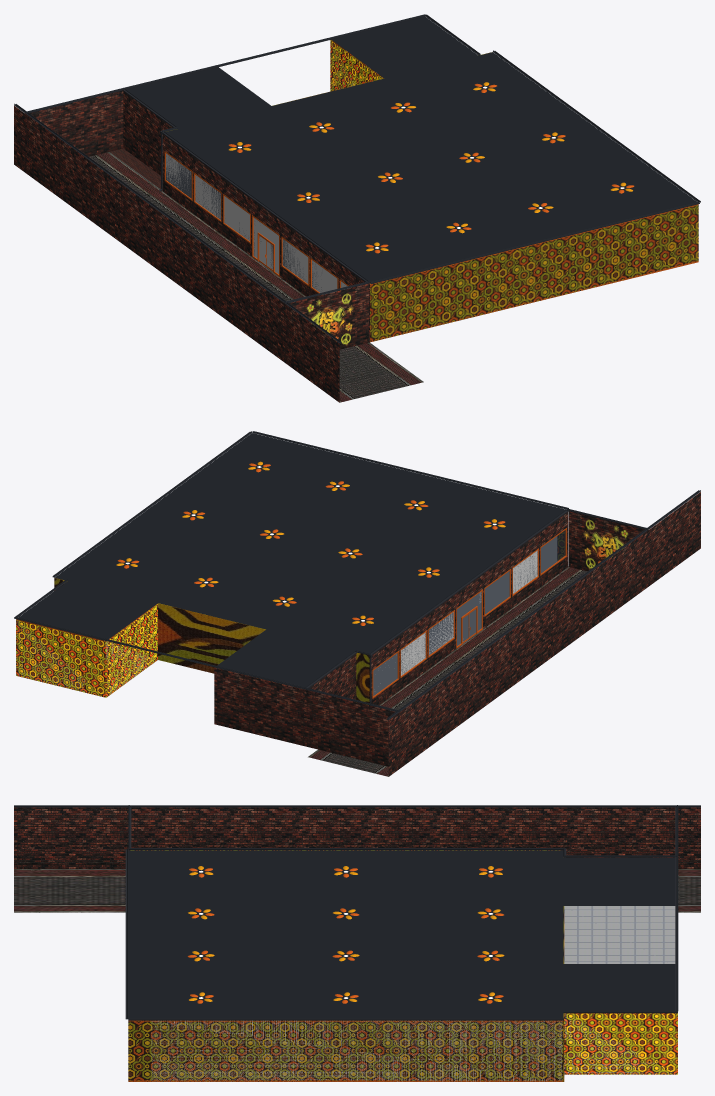
Rendered from store.glb.
3 renders of one model, top to bottom at view 1: azimuth 30°, elevation 25°; view 2: azimuth 150°, elevation 25°; view 3: azimuth 270°, elevation 25°, orthographic. The views are drawn at different scales.
Visible parts, largest first — view 1: mainRoofDeck, cityPlane, frontWall, outdoorFloor, brRoofDeck, wcRoofDeck, TRIGGER__crate_digger_shop, westRearGapWall, leftWallHeader, wcLeftBrickWall, muralWall, brLeftWall (+7 smaller); view 2: mainRoofDeck, cityPlane, wcRearBrickWall, brRearWall, westRearGapWall, outdoorFloor, Partition_solid_1, brRoofDeck, TRIGGER__crate_digger_shop, wcRoofDeck, leftWallHeader, brLeftWall (+14 smaller); view 3: mainRoofDeck, cityPlane, rightWall, TRIGGER__crate_digger_shop, brRightWall, wcRightWall, outdoorFloor, wcRoofDeck, brRoofDeck, capMesh.004, gutterOuter.004, TRIGGER__crate_digger_breakroom (+6 smaller).
Boxes of the visible parts, x1,y1,x2,y2 form: mainRoofDeck: (165, 52, 696, 281); cityPlane: (14, 106, 339, 402); frontWall: (370, 205, 698, 341); outdoorFloor: (86, 152, 423, 402); brRoofDeck: (332, 17, 477, 78); wcRoofDeck: (126, 67, 270, 128); TRIGGER__crate_digger_shop: (166, 153, 349, 294); westRearGapWall: (25, 90, 123, 156); leftWallHeader: (163, 134, 369, 300); wcLeftBrickWall: (123, 91, 172, 175); muralWall: (299, 287, 355, 349); brLeftWall: (330, 40, 382, 91); mainRoofDeck: (55, 433, 565, 653); cityPlane: (388, 492, 700, 776); wcRearBrickWall: (214, 667, 304, 745); brRearWall: (16, 620, 106, 697); westRearGapWall: (304, 690, 396, 766); outdoorFloor: (308, 566, 590, 776); Partition_solid_1: (158, 603, 265, 673); brRoofDeck: (17, 581, 157, 639); TRIGGER__crate_digger_shop: (373, 536, 556, 695); wcRoofDeck: (217, 629, 354, 689); leftWallHeader: (371, 512, 568, 670); brLeftWall: (106, 604, 157, 696); mainRoofDeck: (128, 850, 563, 1017); cityPlane: (14, 807, 700, 868); rightWall: (128, 1020, 563, 1081); TRIGGER__crate_digger_shop: (151, 1020, 563, 1081); brRightWall: (564, 1013, 677, 1074); wcRightWall: (564, 906, 675, 963); outdoorFloor: (14, 869, 700, 912); wcRoofDeck: (563, 857, 675, 905); brRoofDeck: (563, 964, 675, 1010); capMesh.004: (14, 805, 700, 806); gutterOuter.004: (14, 806, 700, 807); TRIGGER__crate_digger_breakroom: (564, 1013, 672, 1074).
Size of what is drawn, in the model's own units: 88.48 by 12.35 by 120.
Materials: 452 (441 with a texture image).
